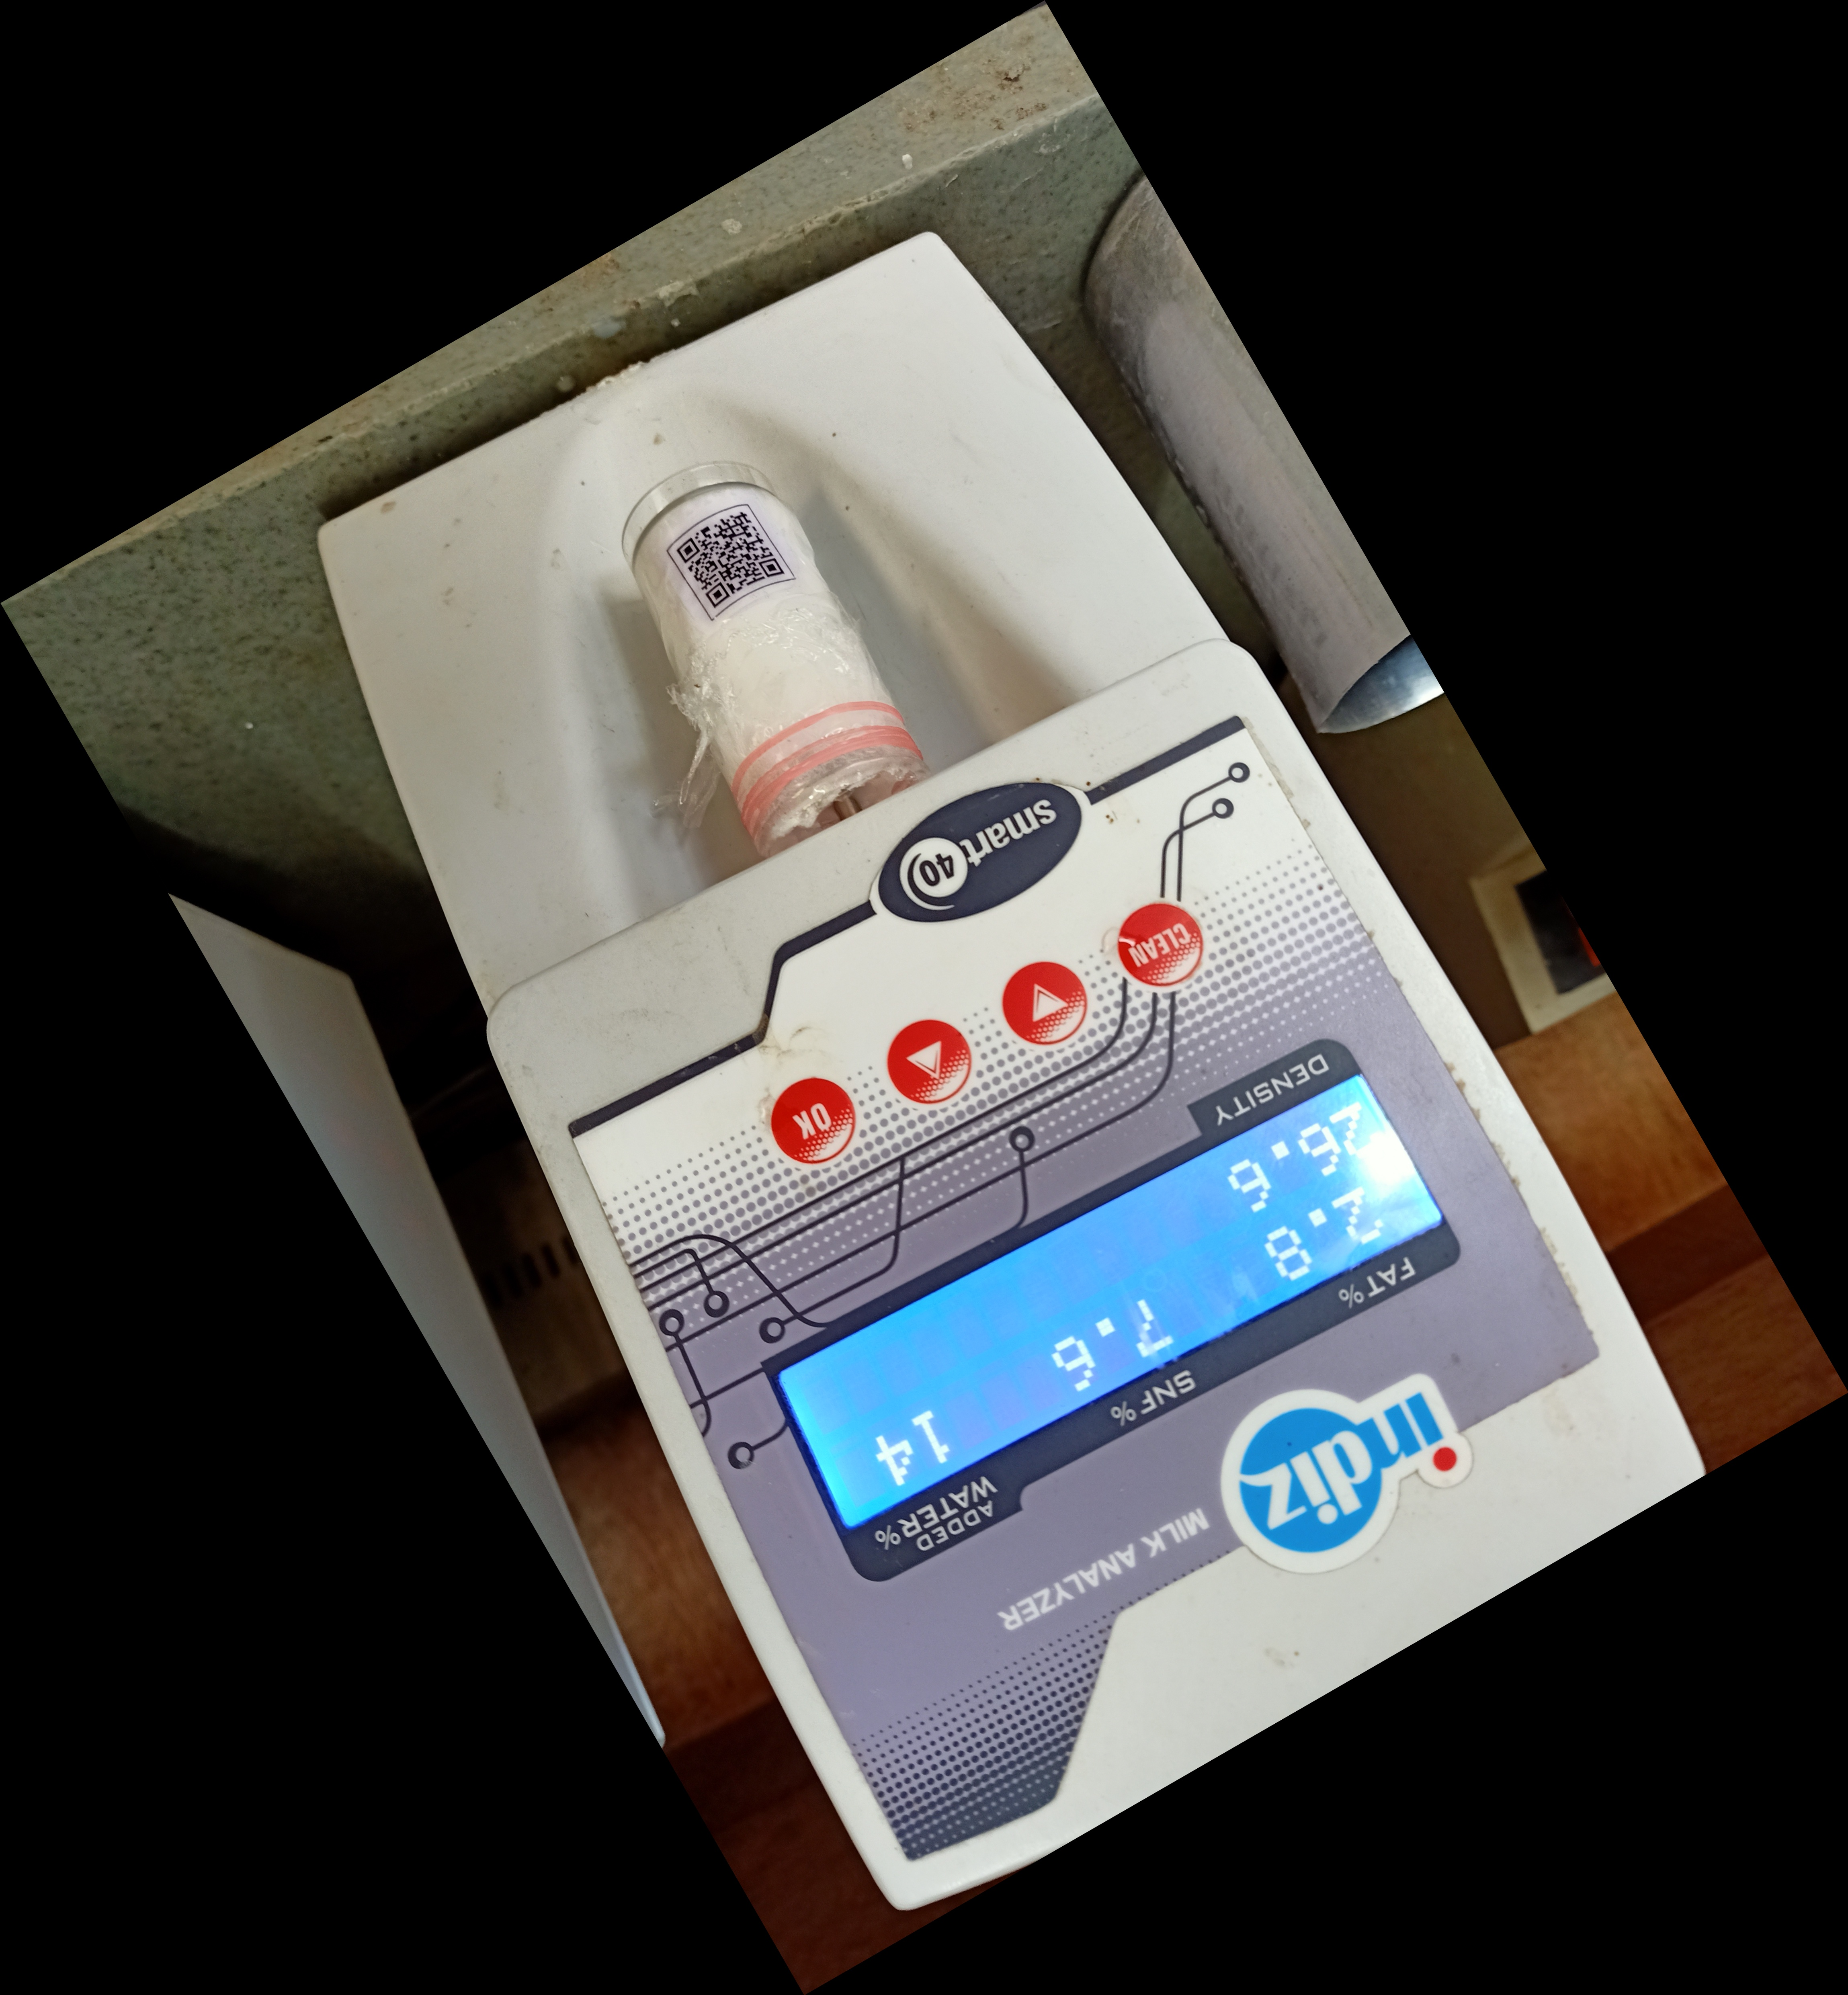lcd: (754, 1065, 1476, 1573)
